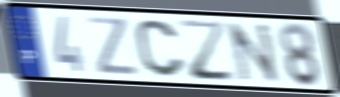4: (53, 15, 85, 74)
8: (277, 20, 323, 90)
C: (133, 18, 188, 80)
N: (224, 21, 282, 85)
Z: (176, 18, 236, 84), (85, 15, 142, 77)
